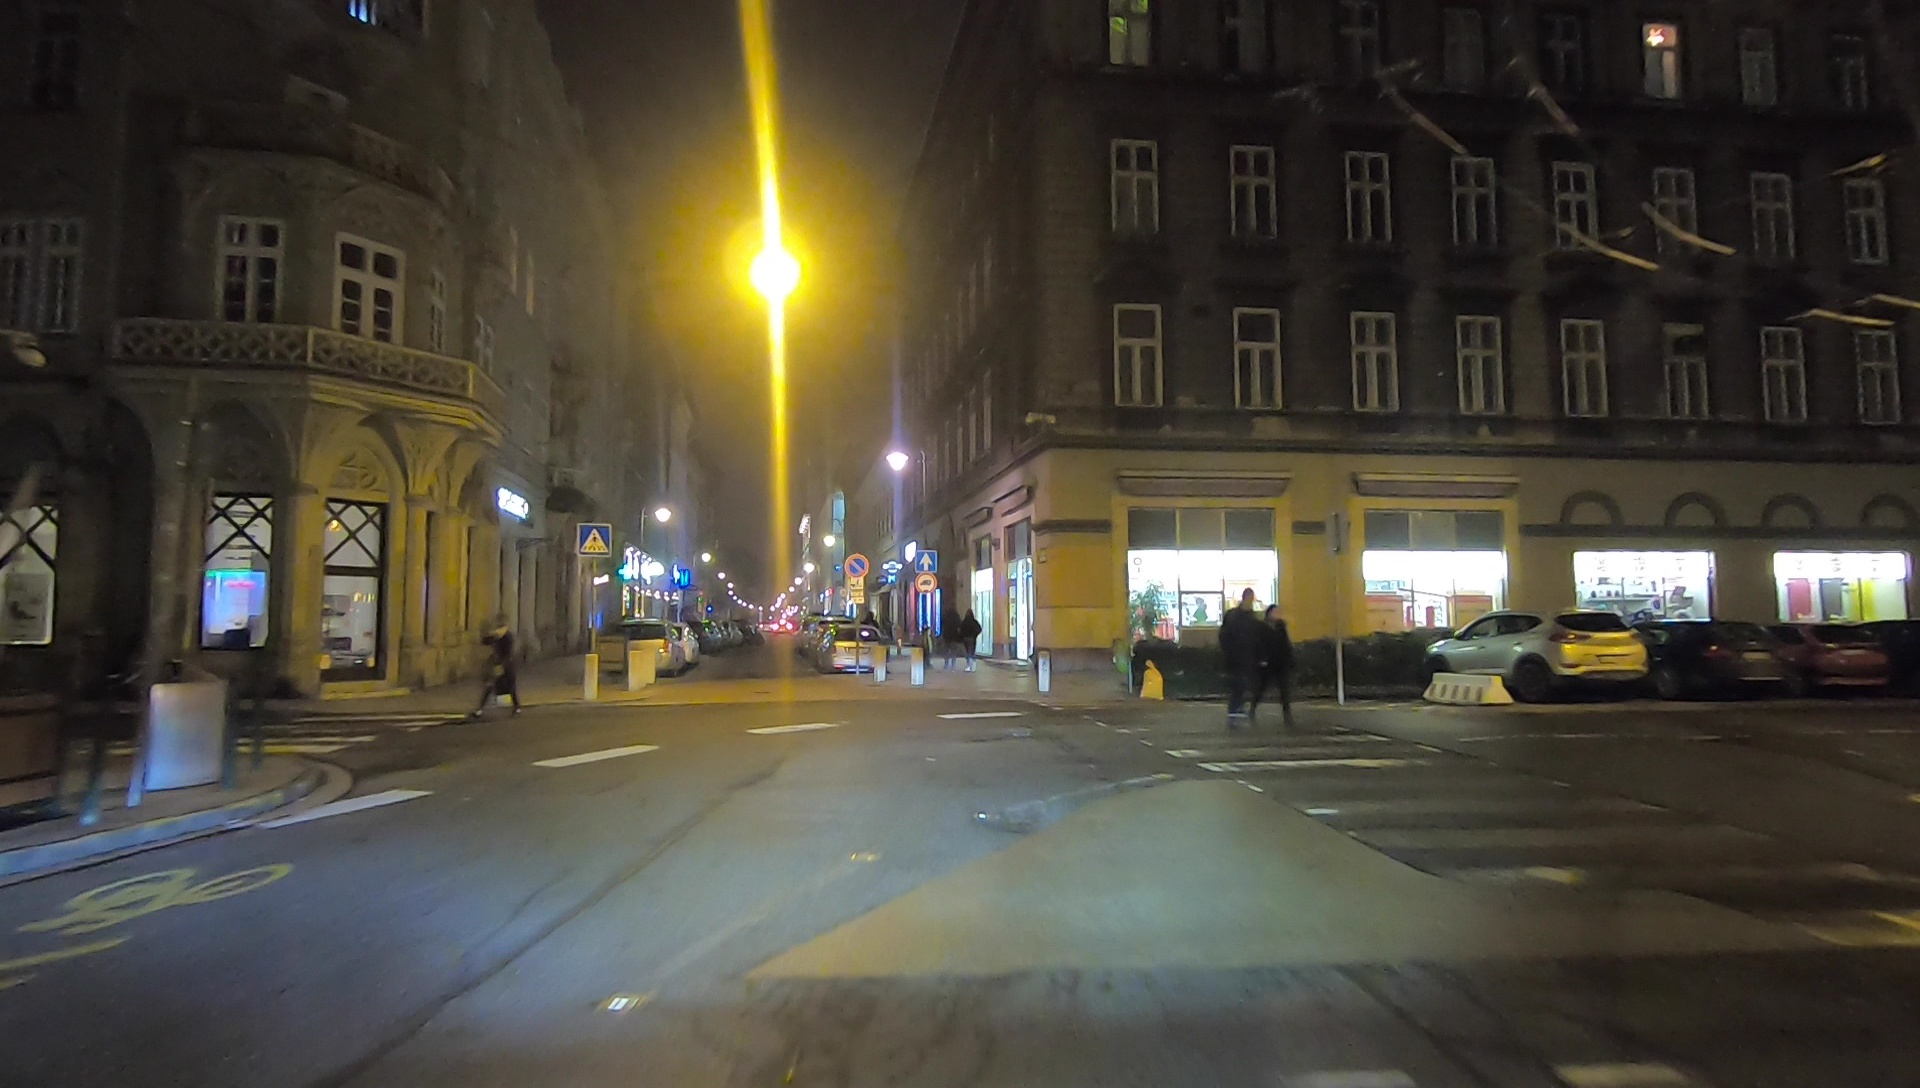person: (1215, 586, 1264, 724), (473, 611, 519, 719), (1254, 602, 1293, 719), (960, 608, 982, 669), (943, 600, 958, 665)
